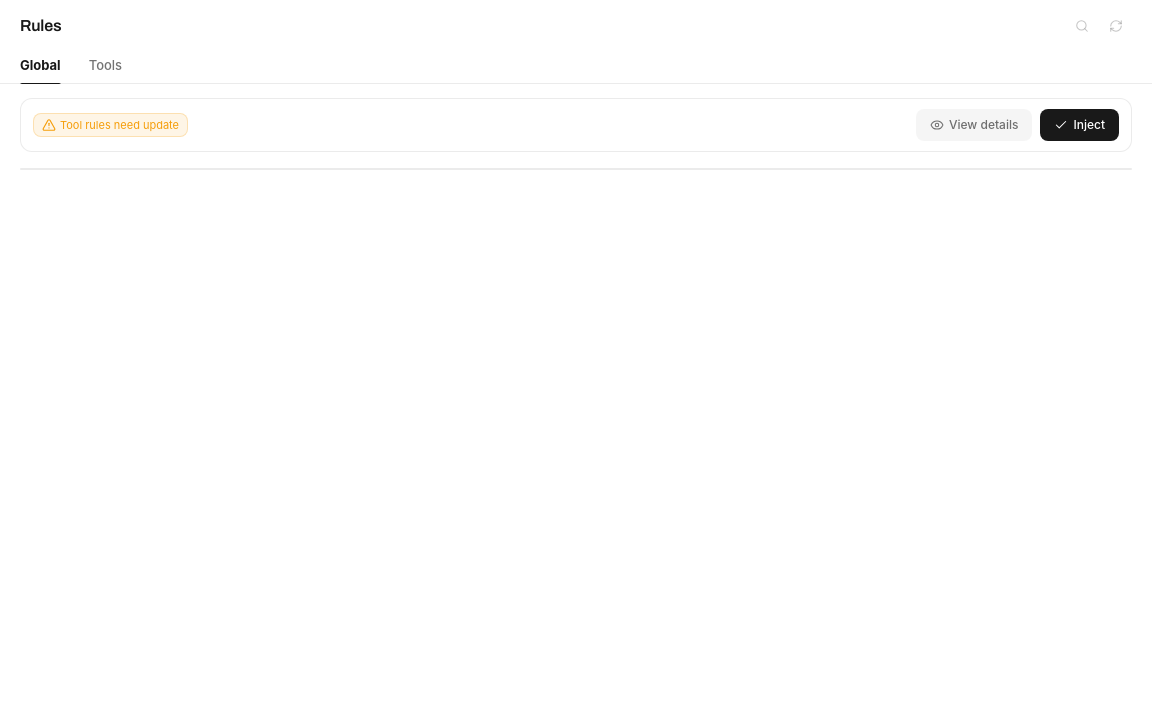
Test case: RulesModule managed state › shows one update banner and opens an injection preview for writable targets
Expected: the text "Tool rules need update" is shown, [60,118,179,132]
Step 1. Click the button "View details" → (974,125), box [916,109,1032,141]
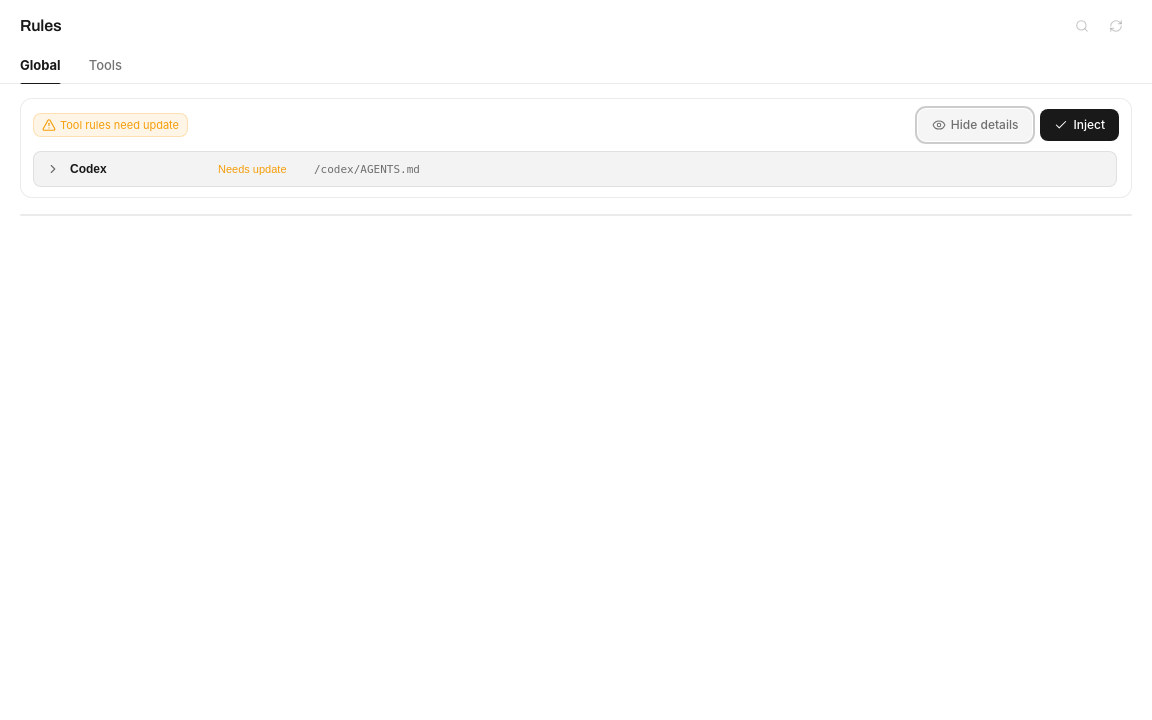
Step 2. Click the button "Codex Needs update /codex/AGENTS.md" → (88,169), box [34,152,1116,186]
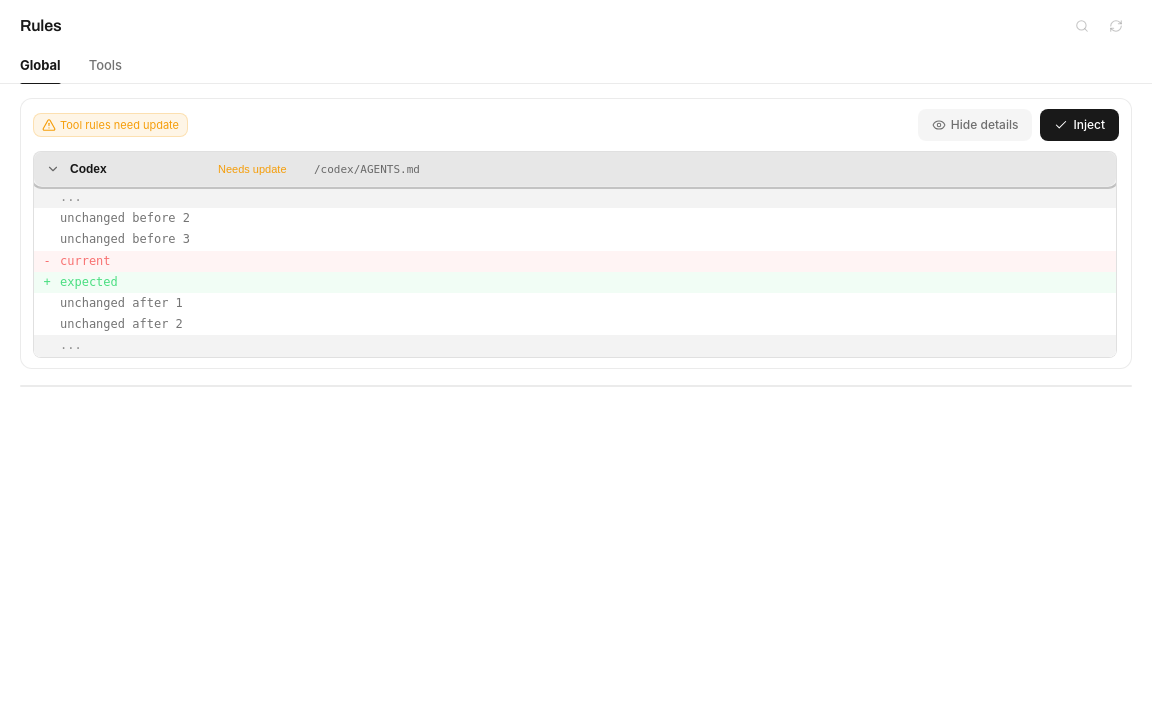
Now the text "expected" is shown, box [60,273,126,292]
Now the text "current" is shown, box [60,252,119,271]
Now the 1st text "..." is shown, box [60,190,82,204]
Step 3. Click the button "Inject" → (1080,125), box [1040,109,1119,141]
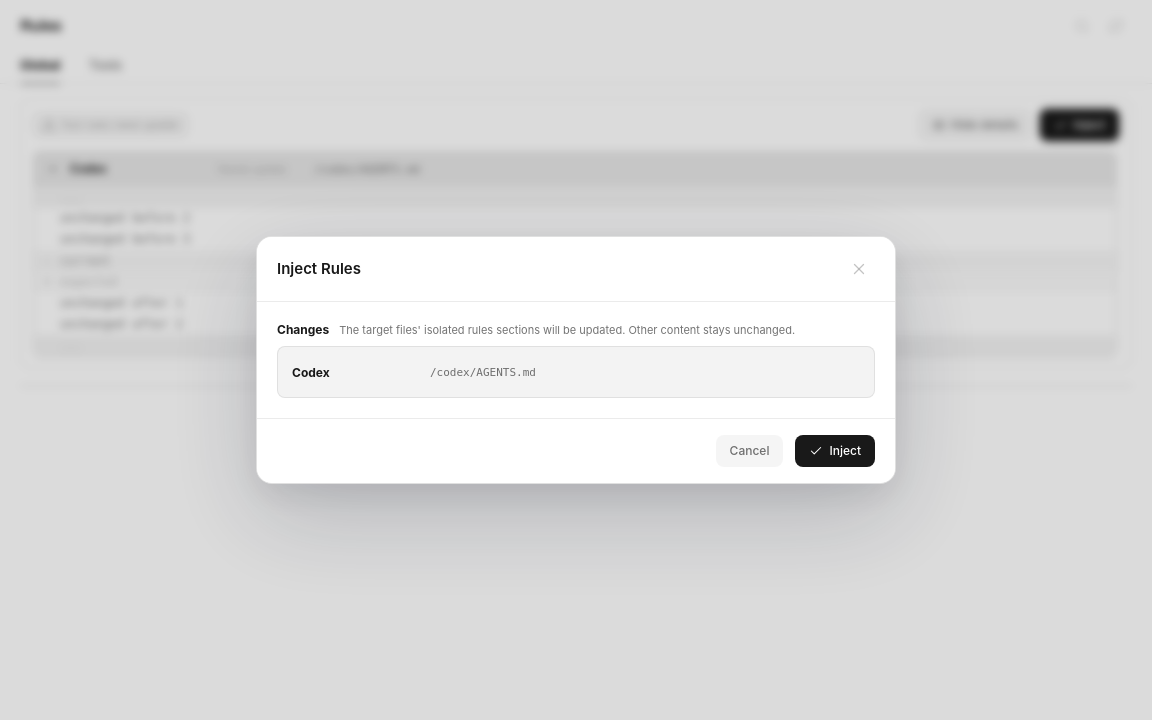
Now the text "Changes" is shown, box [277,322,329,337]
Now the text "/codex/AGENTS.md" is shown, box [430,366,536,379]
Step 4. Click the button "Inject" → (835,451), box [795,435,875,467]
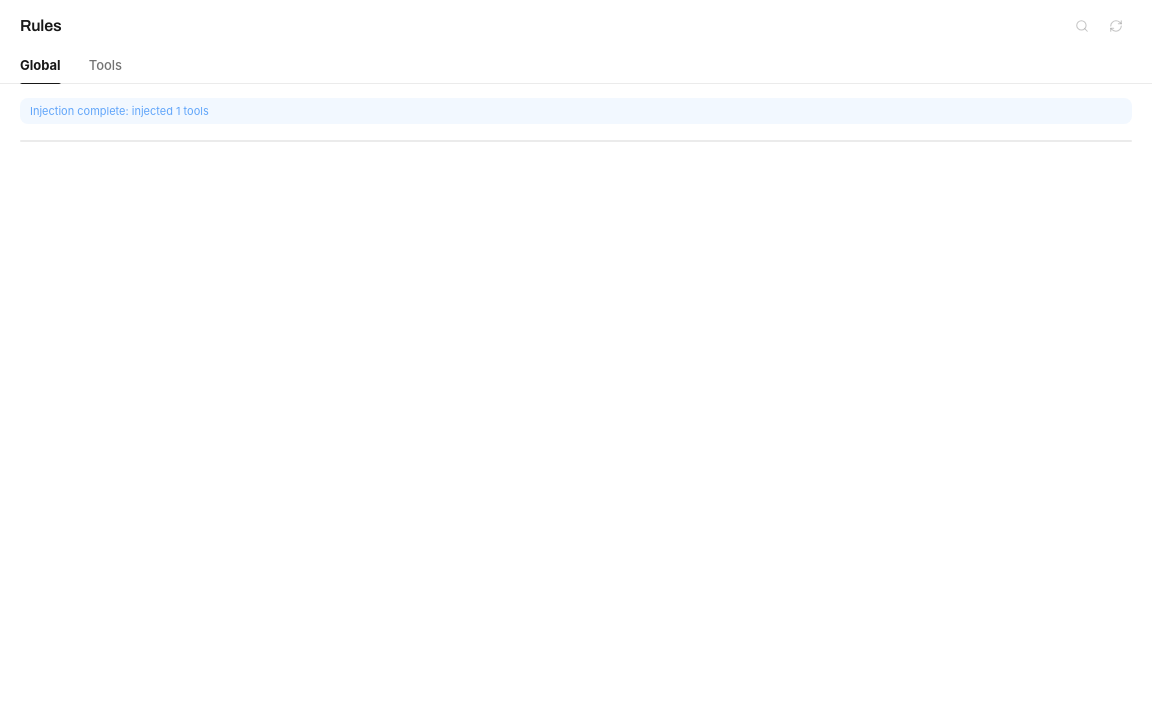
Now the text "Injection complete: injected 1 tools" is shown, box [20,98,1132,124]
Now the text "Tool rules need update" is gone
Now the button "Needs update" is gone
